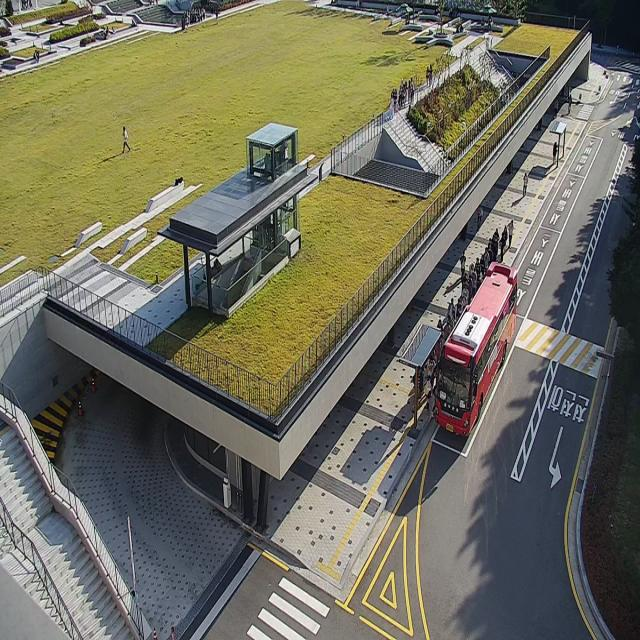queue: (414, 217, 516, 427)
